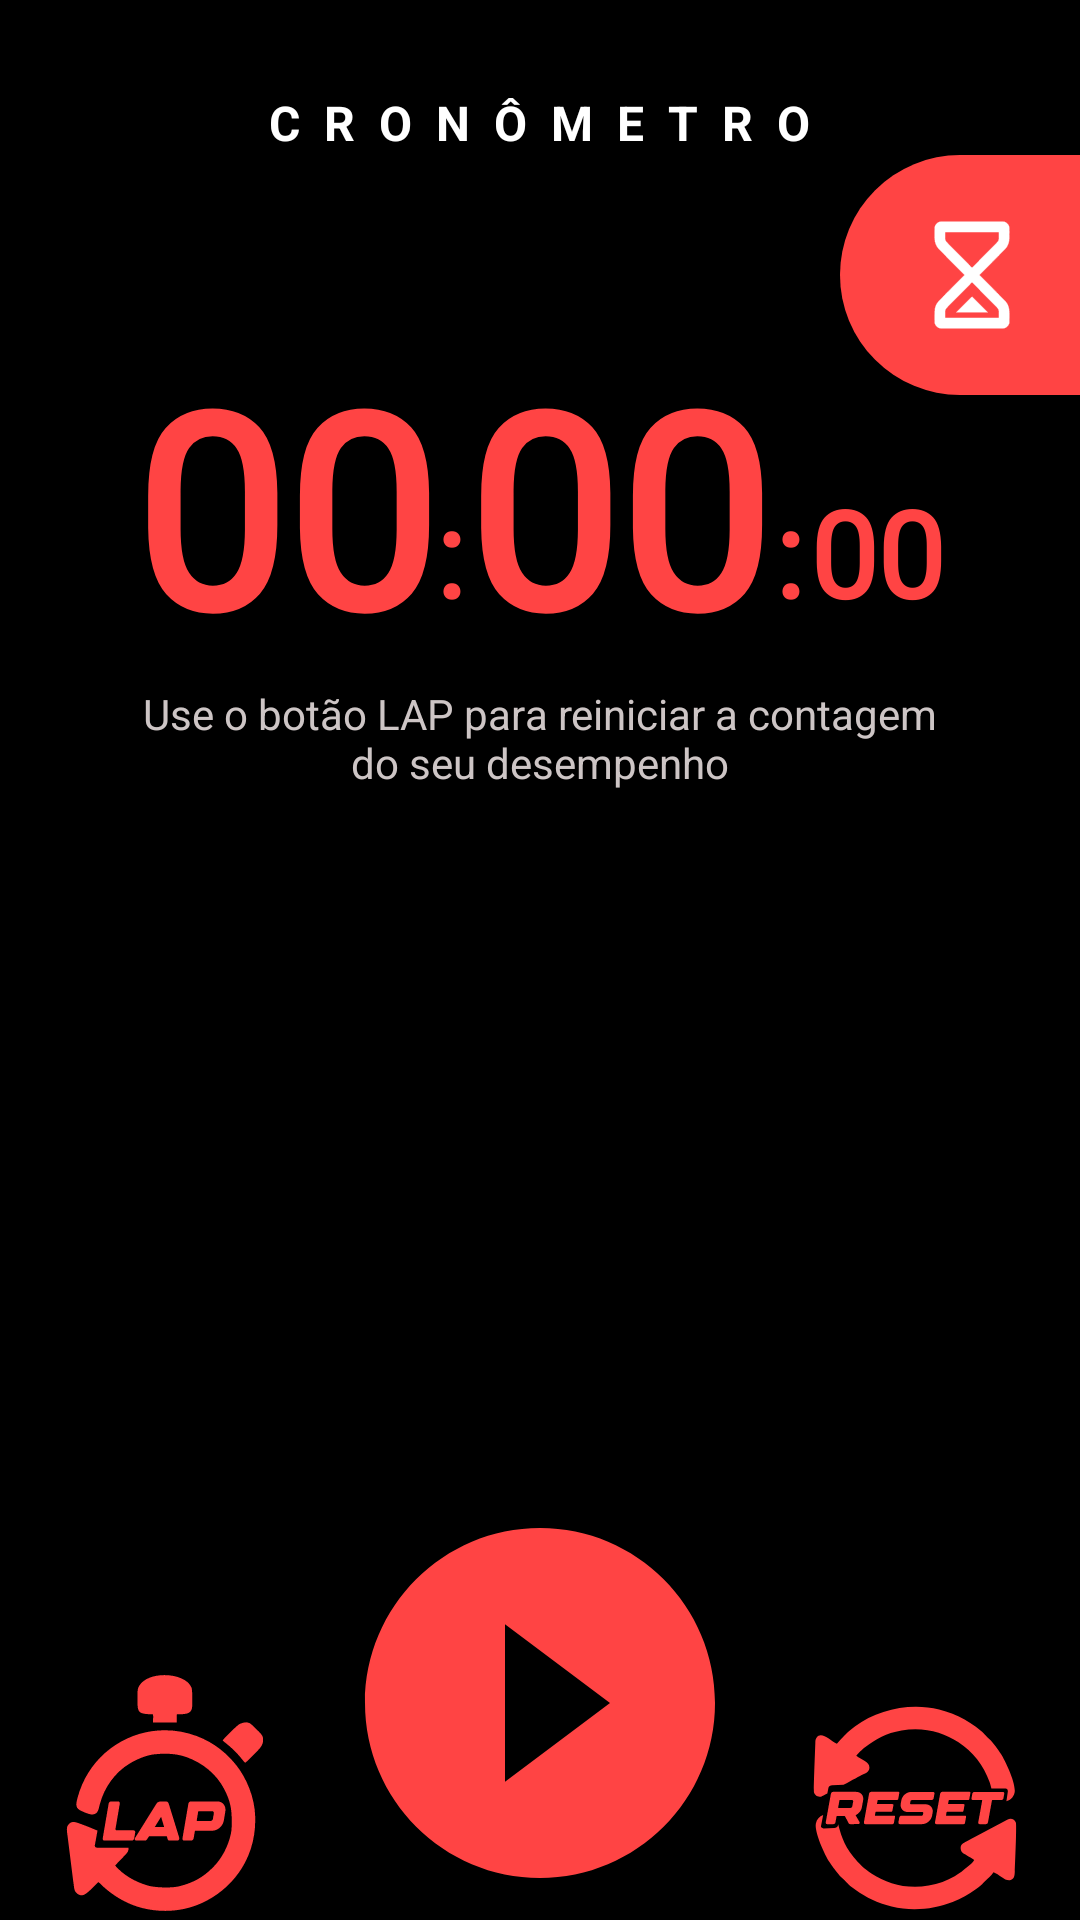

Locate icon controls on the screen. Image size 1080x1920, boxes as {"left": x1, "top": y1, "right": x2, "bottom": y2}.
chronometer main play: {"left": 365, "top": 1528, "right": 715, "bottom": 1878}
hour glasses: {"left": 840, "top": 155, "right": 1080, "bottom": 395}
